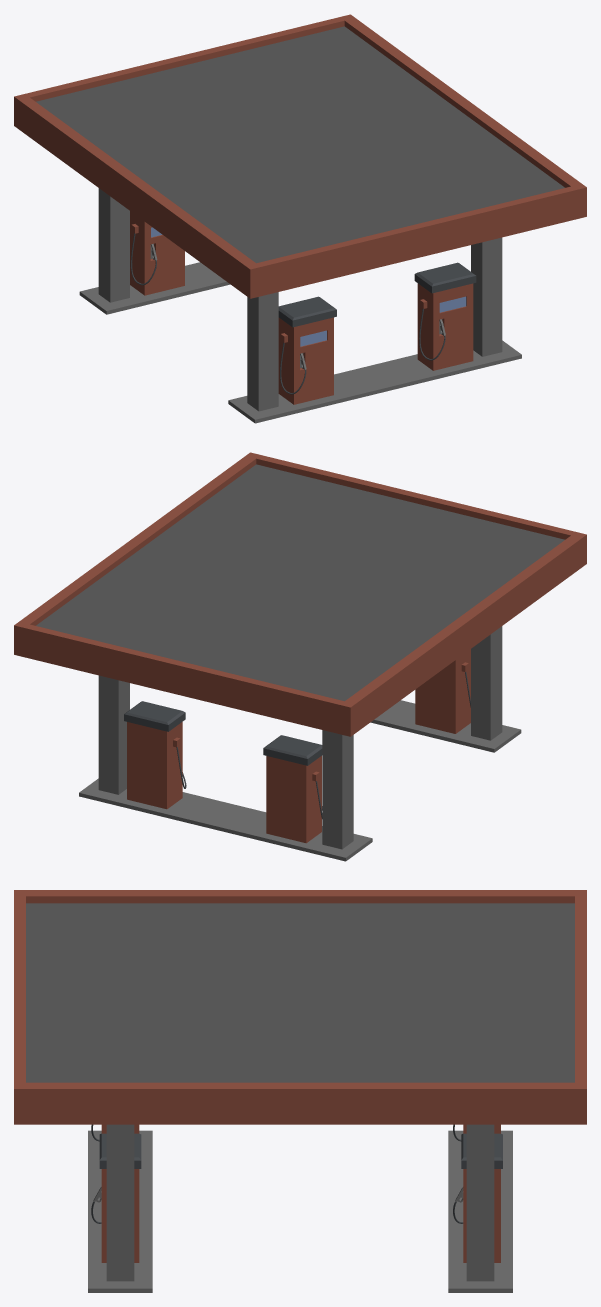
Rendered from Gas_Station_01.glb.
3 views of the same model, one above another, from view 1: azimuth 30°, elevation 25°; view 2: azimuth 150°, elevation 25°; view 3: azimuth 270°, elevation 25° (orthographic). The views are drawn at different scales.
Visible parts, largest first — view 1: Gas_Station_01; view 2: Gas_Station_01; view 3: Gas_Station_01.
Part boxes in pixels (<box>): Gas_Station_01: <box>14,14,586,423</box>; Gas_Station_01: <box>14,452,586,861</box>; Gas_Station_01: <box>14,890,586,1292</box>.
Size of the model in its own units: 7.25 by 3.81 by 8.82.
1 material, 1 textured.
